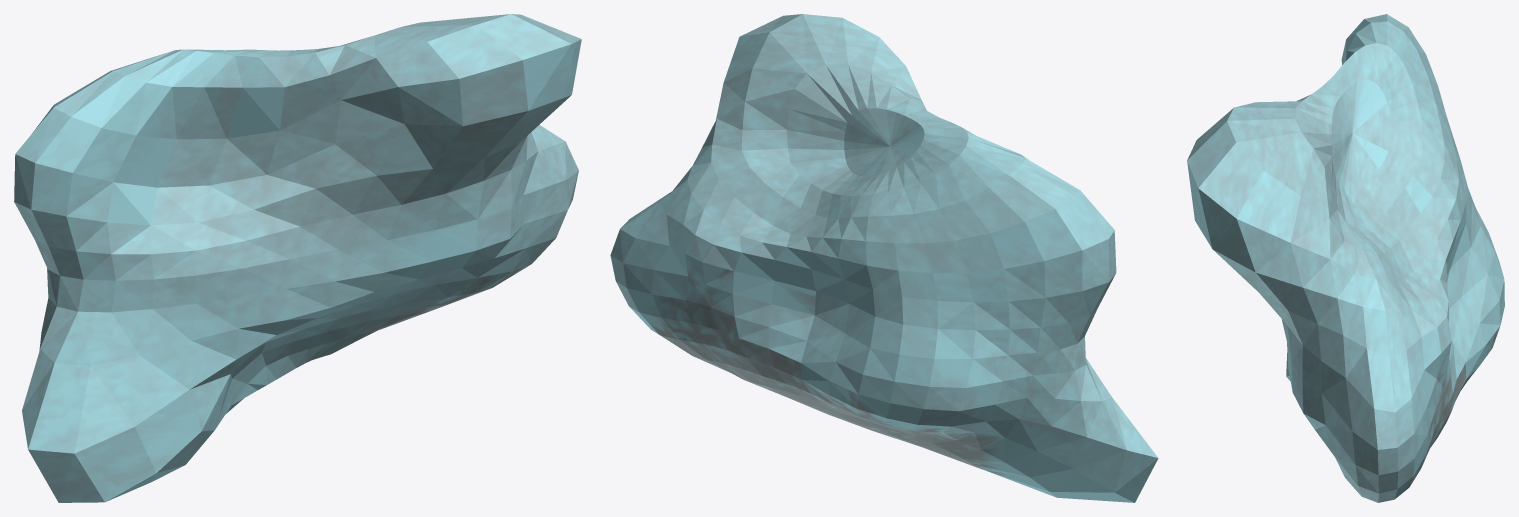
Rendered from cloud.obj.
3 renders of one model, left to right at view 1: azimuth 30°, elevation 25°; view 2: azimuth 150°, elevation 25°; view 3: azimuth 270°, elevation 25°, orthographic. The views are drawn at different scales.
Visible parts, largest first — view 1: 雲; view 2: 雲; view 3: 雲.
Boxes of the visible parts, x1,y1,x2,y2 form: 雲: (14,14,581,502); 雲: (610,14,1158,502); 雲: (1187,14,1504,502).
Size of the model in its own units: 7.02 by 4.91 by 3.37.
1 material, 1 textured.
